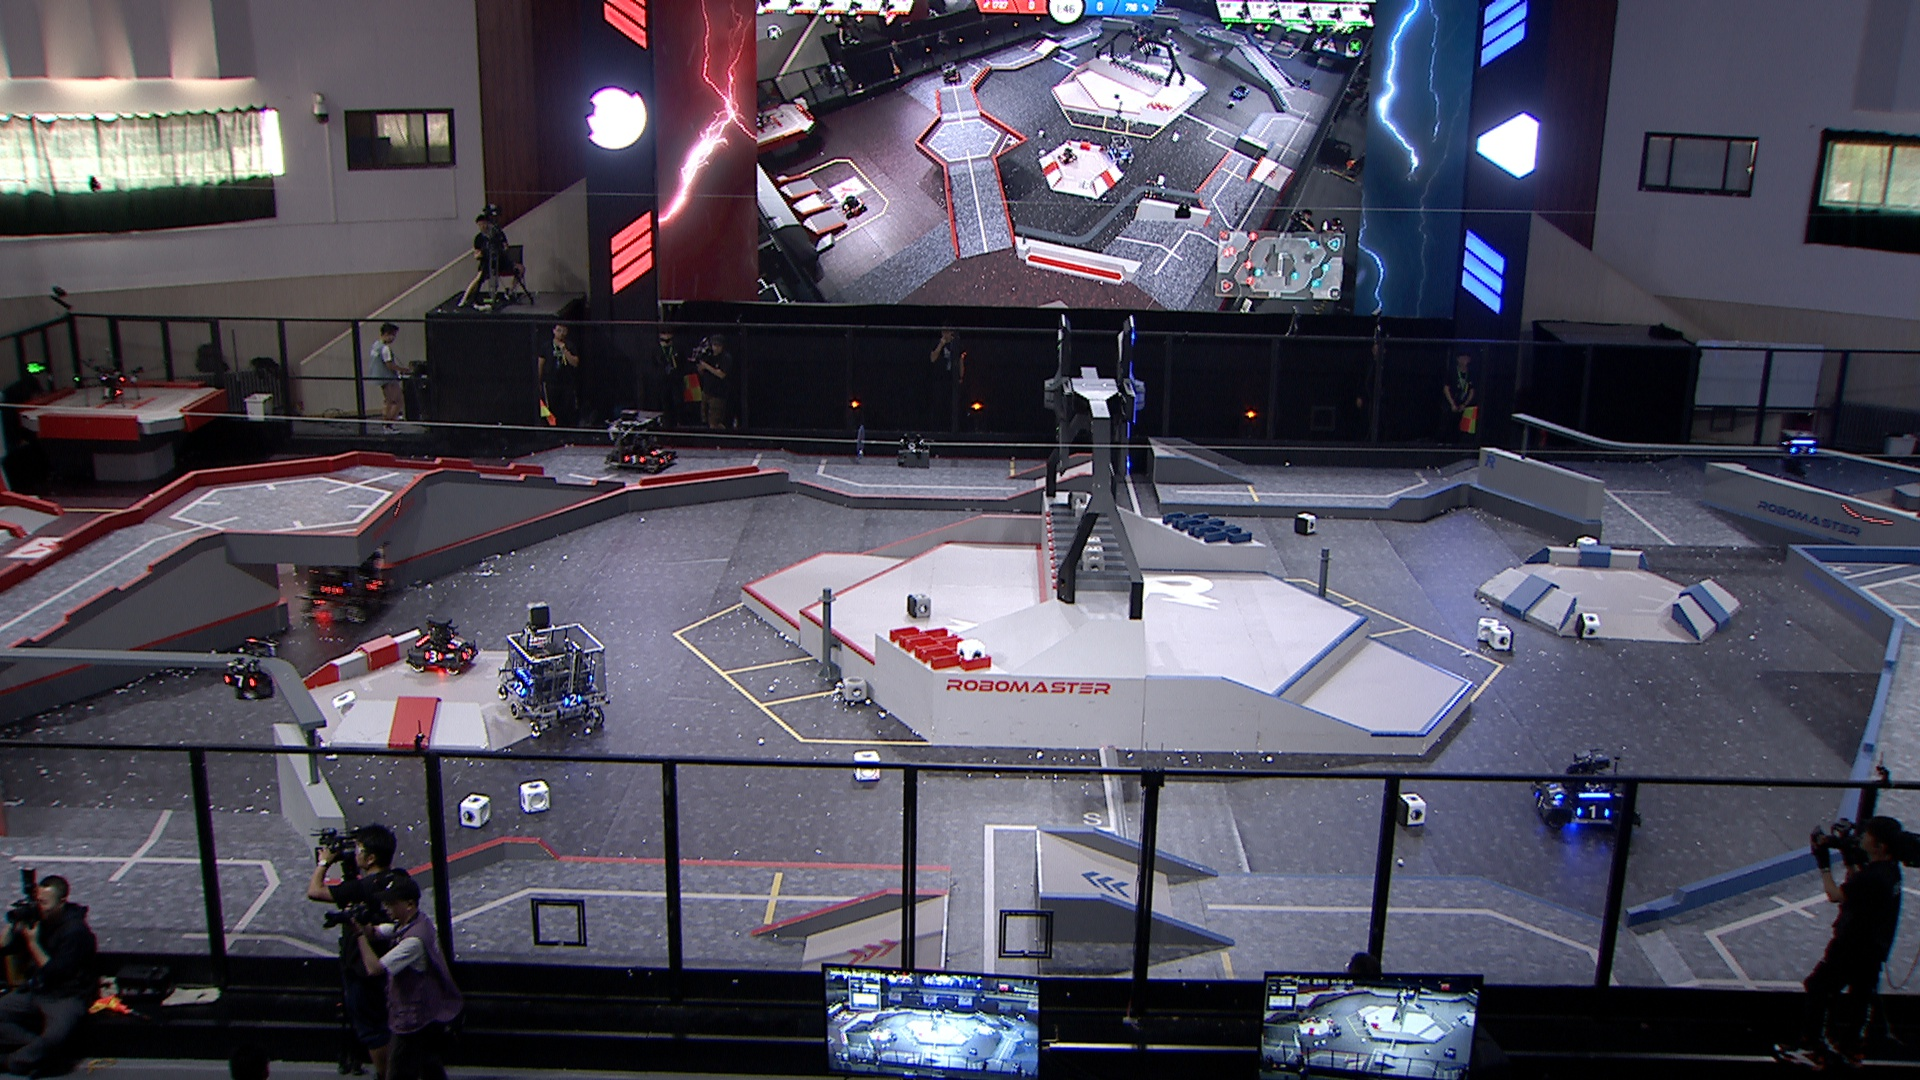armor: (1576, 804, 1611, 822), (224, 671, 257, 690), (1534, 789, 1549, 814), (1548, 783, 1567, 803), (423, 647, 444, 665), (562, 694, 584, 709), (1789, 444, 1816, 458), (318, 584, 344, 597), (622, 454, 647, 465), (365, 579, 385, 593), (513, 679, 527, 698), (446, 637, 465, 650), (647, 446, 667, 458), (460, 647, 475, 661), (657, 455, 673, 465)
car: (496, 621, 612, 738), (1532, 752, 1640, 835), (299, 537, 389, 624), (605, 409, 678, 476), (404, 615, 479, 678)
ignore: (1109, 135, 1135, 162), (839, 194, 865, 219), (1141, 177, 1163, 200), (939, 61, 960, 84), (1230, 82, 1253, 102), (1058, 145, 1077, 166), (1298, 76, 1313, 91)
watcher: (224, 636, 278, 700), (1780, 429, 1818, 479)
